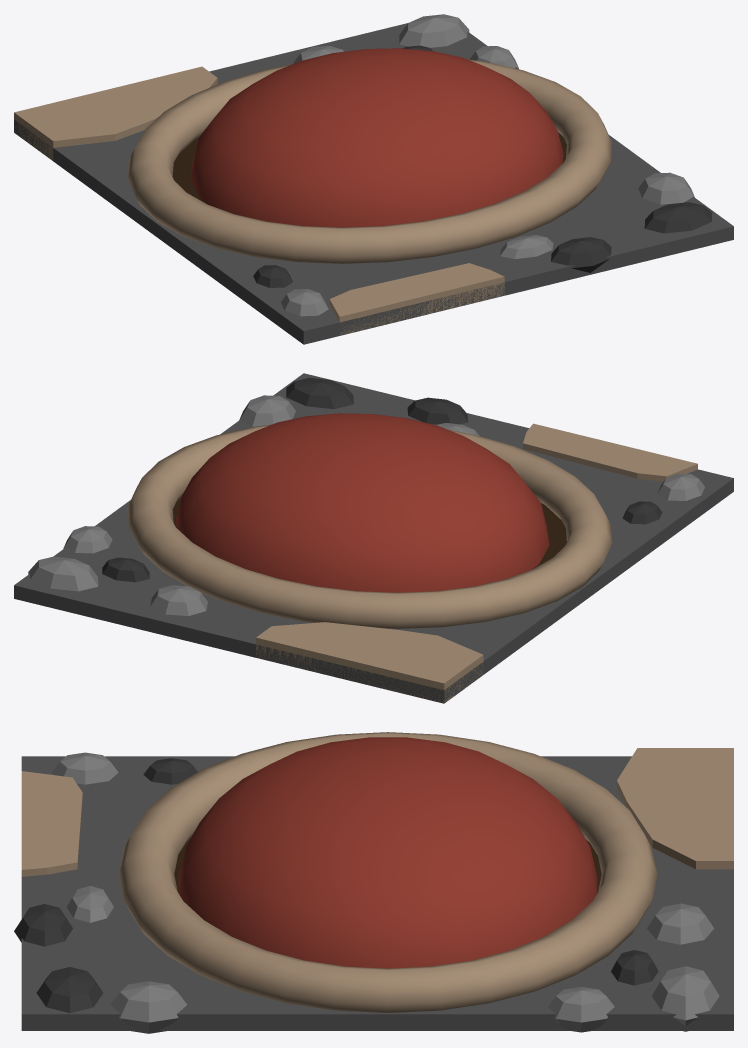
The model's file is newsha-93.glb.
3 renders of one model, top to bottom at view 1: azimuth 30°, elevation 25°; view 2: azimuth 150°, elevation 25°; view 3: azimuth 270°, elevation 25°, orthographic. The views are drawn at different scales.
Visible parts, largest first — view 1: newsha-93; view 2: newsha-93; view 3: newsha-93.
Boxes of the visible parts, box(x1,y1,x2,y2) form: newsha-93: box(14, 14, 733, 344); newsha-93: box(14, 373, 733, 703); newsha-93: box(14, 732, 733, 1033).
Size of the model in its own units: 2.05 by 0.52 by 2.36.
